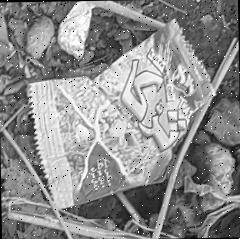general: (25, 16, 217, 210)
